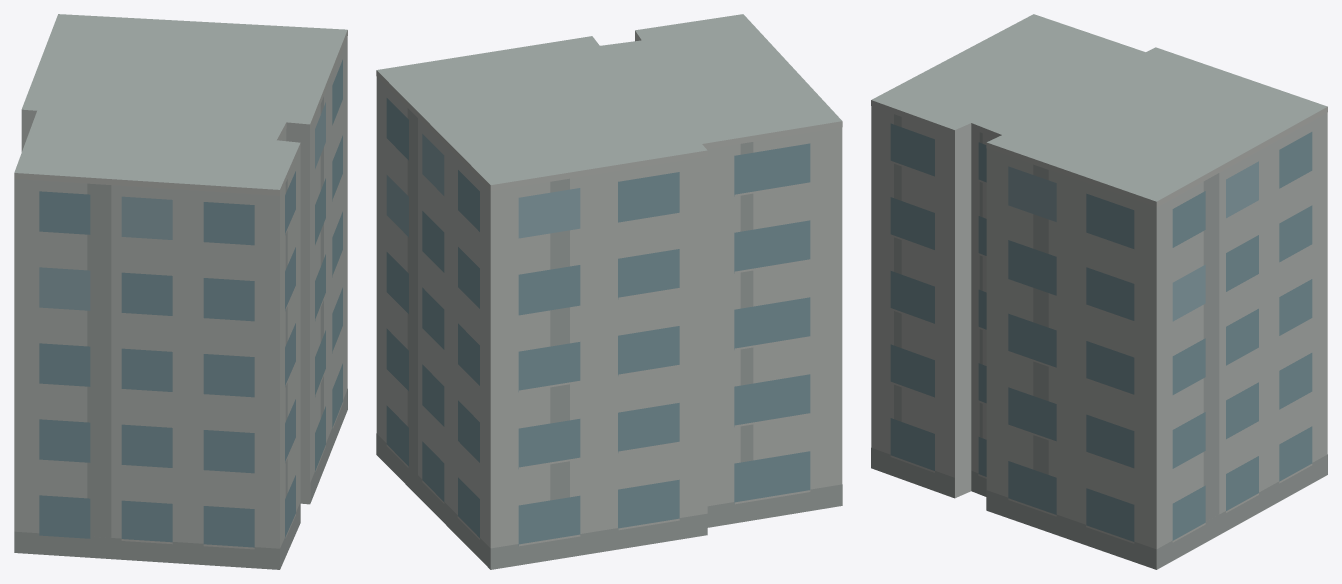
File: survey-upis-33009411.glb
The picture shows the model from 3 angles, left to right: view 1: azimuth 30°, elevation 25°; view 2: azimuth 150°, elevation 25°; view 3: azimuth 270°, elevation 25°; orthographic projection. The views are drawn at different scales.
Visible parts, largest first — view 1: survey-upis-33009411.tmp; view 2: survey-upis-33009411.tmp; view 3: survey-upis-33009411.tmp.
Part boxes in pixels (box(x1,y1,x2,y2)): survey-upis-33009411.tmp: box(14, 14, 347, 569); survey-upis-33009411.tmp: box(376, 14, 842, 569); survey-upis-33009411.tmp: box(871, 14, 1327, 569).
Bounding box in the file's own units: 16.68 × 15.25 × 17.15.
